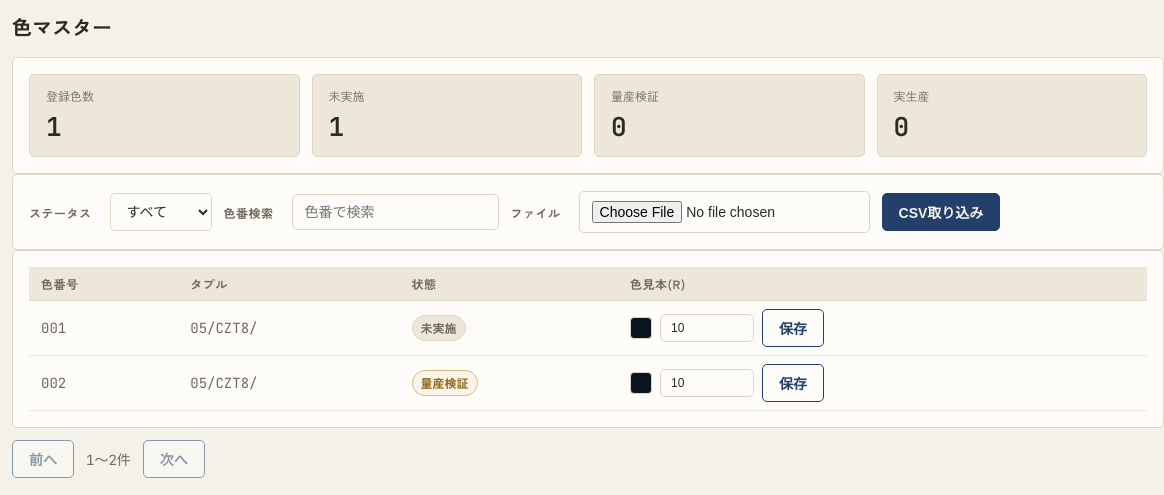
Test: ColorMaster › 色番検索で一覧を絞り込む
Check: the text "001" is shown, box [29,300,178,356]
Check: the text "002" is shown, box [29,356,178,410]
Type "002" into the field labelled "色番検索".
click(395, 212); type("002")  # box [292,194,498,230]
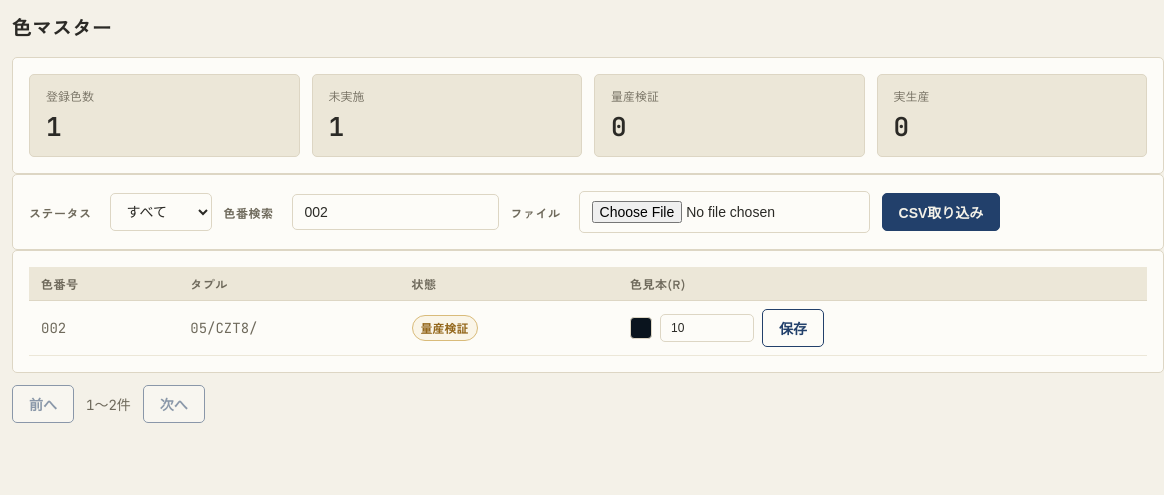
Check: the text "002" is shown, box [29,300,178,356]
Check: the text "001" is gone
